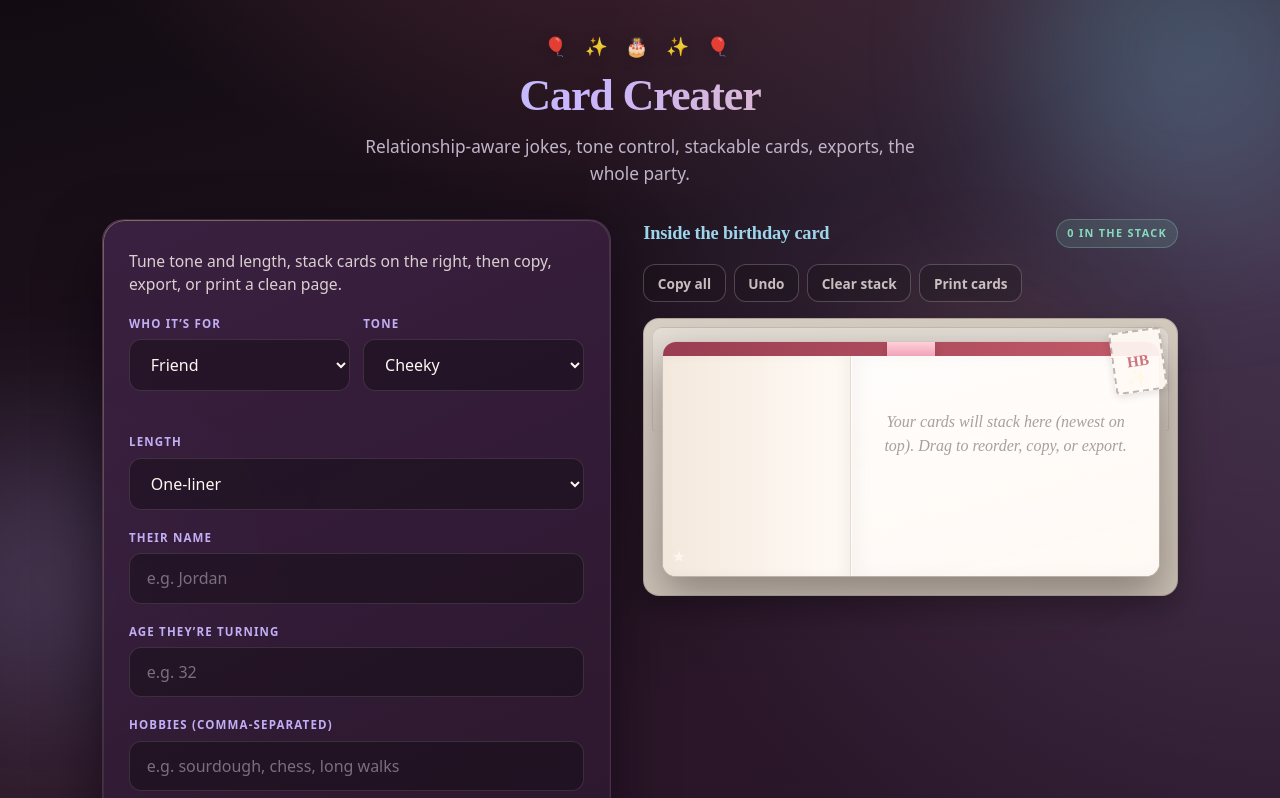
Test case: App › clear stack can be undone
The width and height of the screenshot is (1280, 798).
Type "Jordan" into the field labelled "Their name" at (356, 578), box [129,553,584,604]
Type "32" into the number field labelled "Age they’re turning" at (356, 672), box [129,647,584,697]
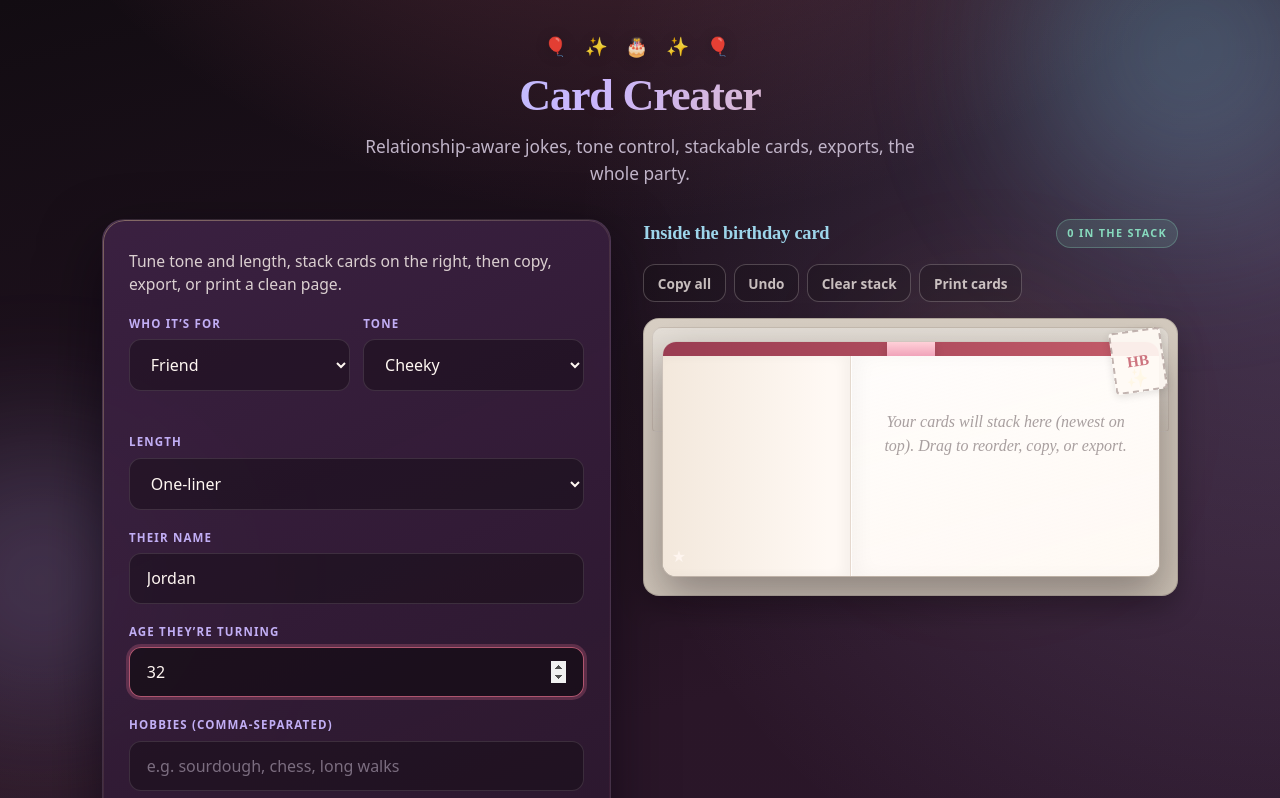
Type "chess, hiking" into the field labelled "Hobbies (comma-separated)" at (356, 766), box [129,741,584,791]
(page scrolled)
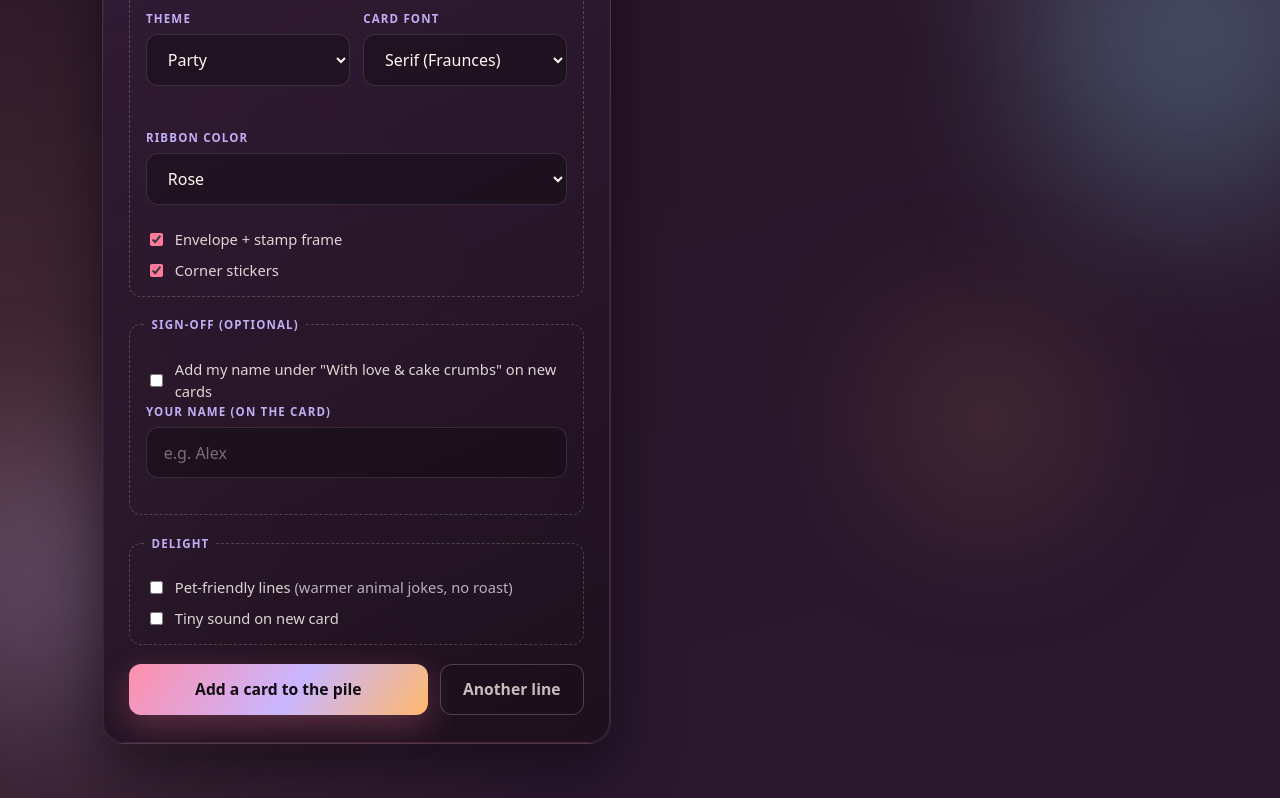
Click the button "Add a card to the pile" at (278, 689), box [129,664,428,715]
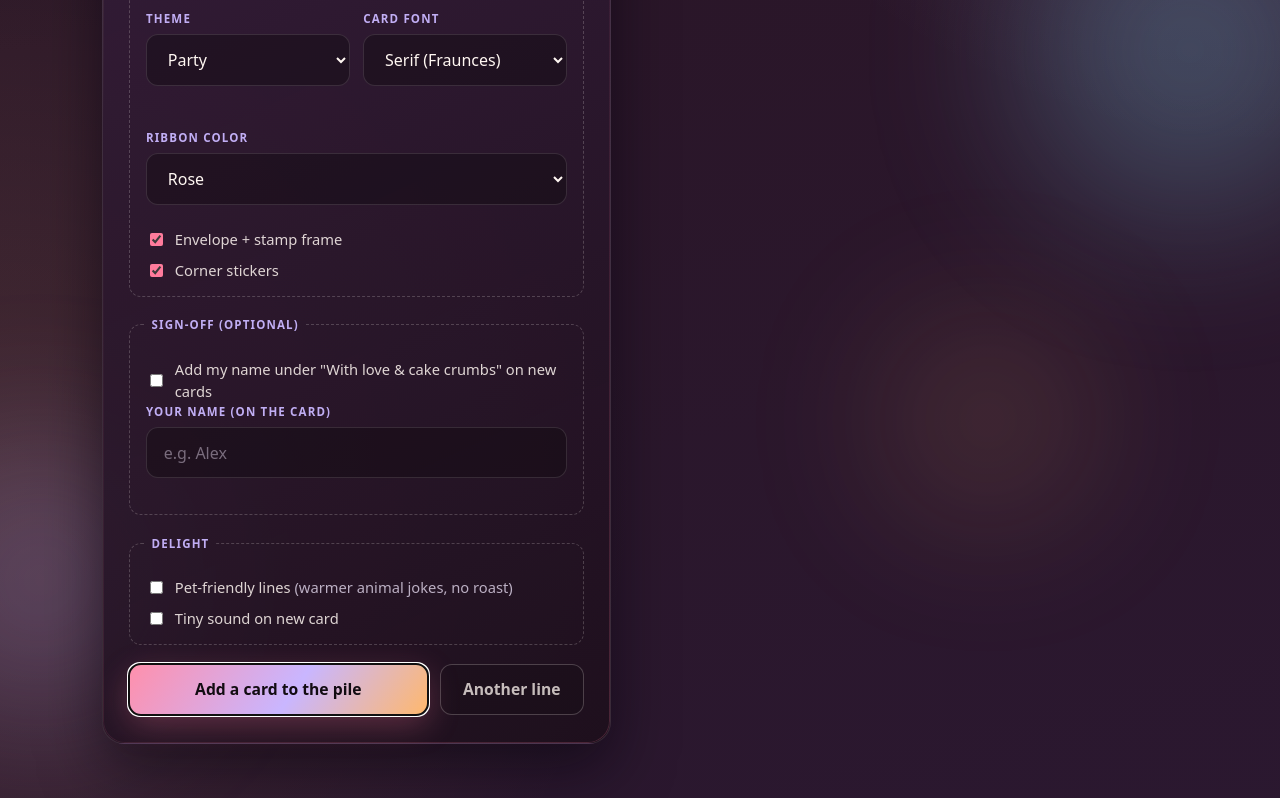
Click the button "Add a card to the pile" at (278, 689), box [129,664,428,715]
(page scrolled)
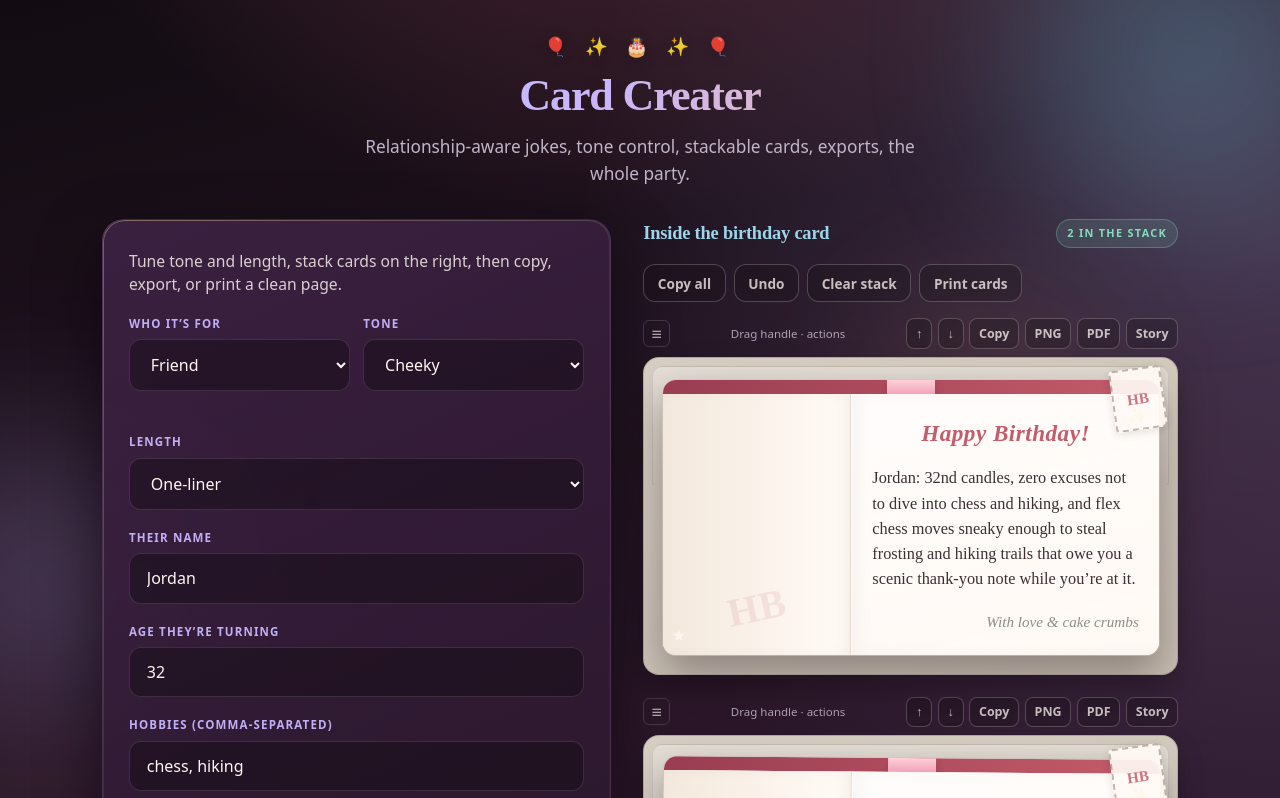
Click the button "Clear stack" at (859, 283), box [807,264,911,302]
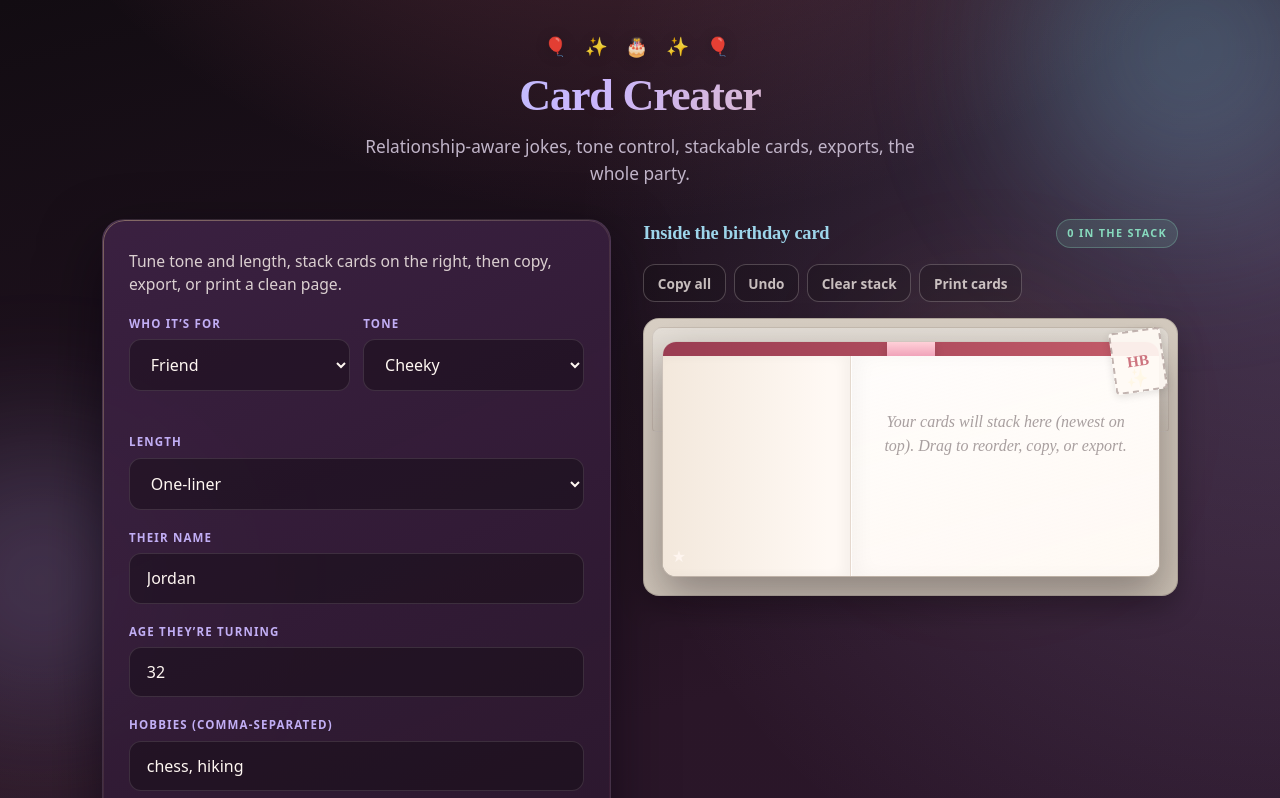
Now the text "0 in the stack" is shown, box [1056,219,1178,248]
Click the button "Undo" at (766, 283), box [734,264,799,302]
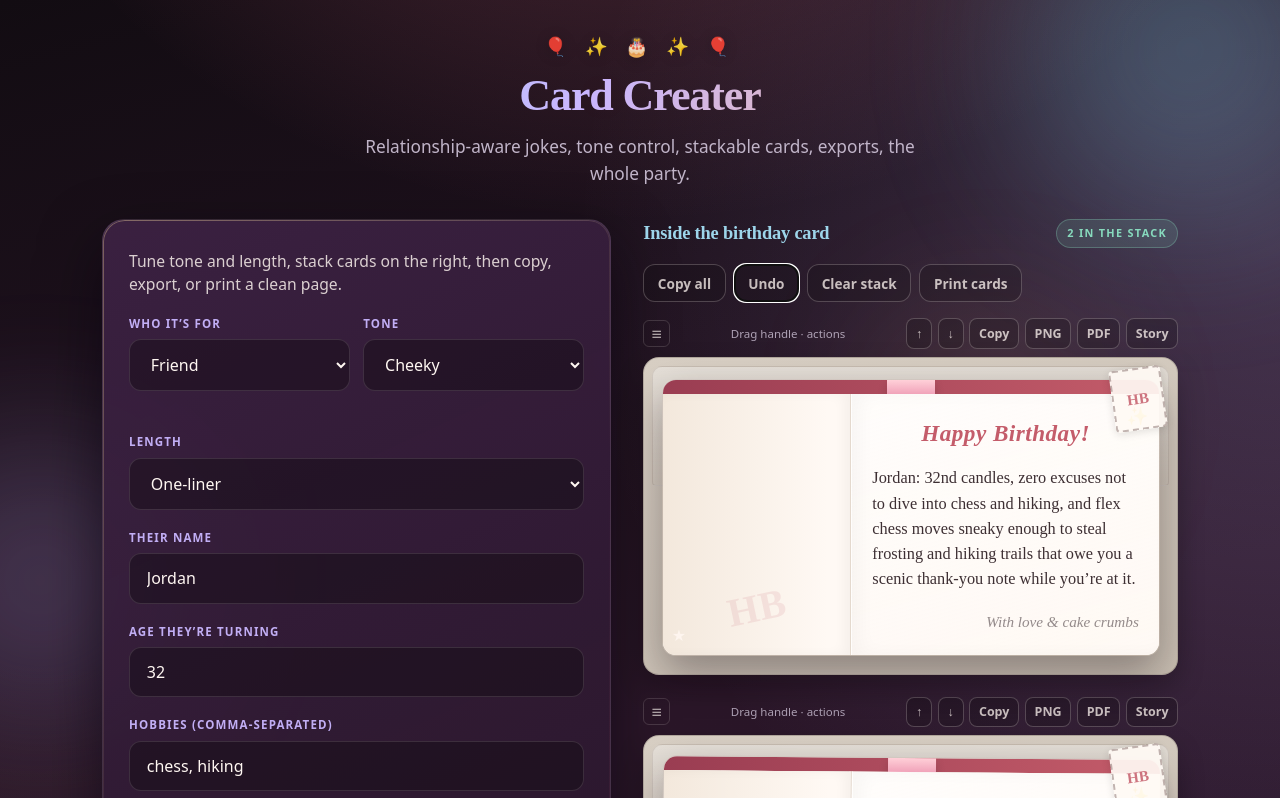
Now the text "2 in the stack" is shown, box [1056,219,1178,248]
